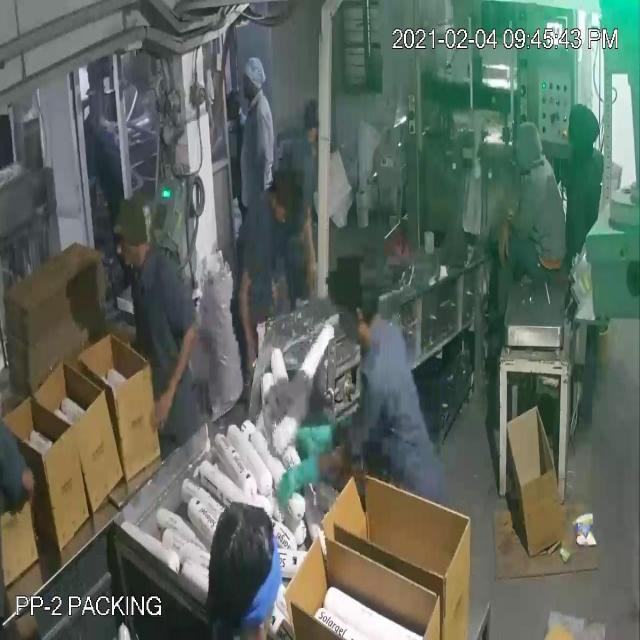No_Gloves: (28, 44, 508, 482)
